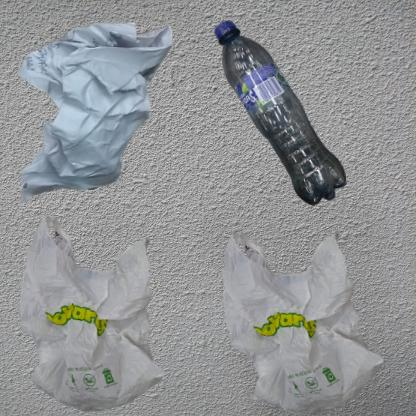bolsa: (213, 213, 395, 416), (10, 213, 181, 416)
botella: (213, 10, 354, 223)
papel: (10, 10, 175, 213)
